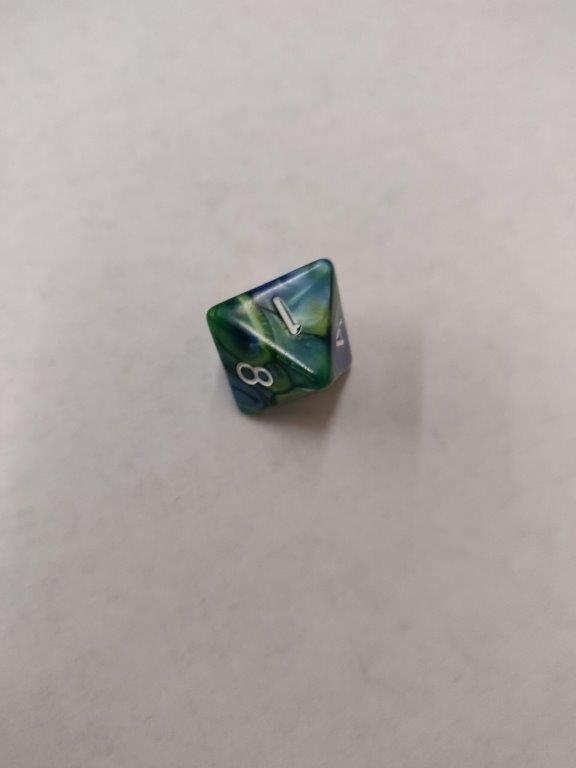d8-1: (206, 257, 354, 422)
